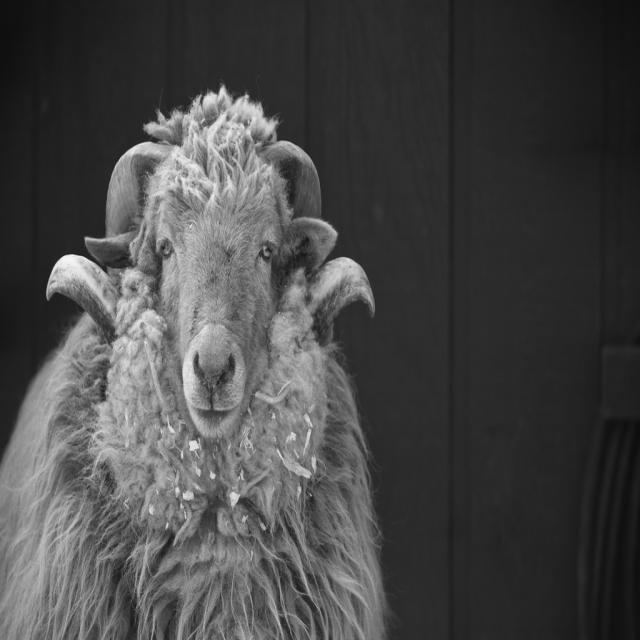Sheep: (0, 86, 398, 640)
